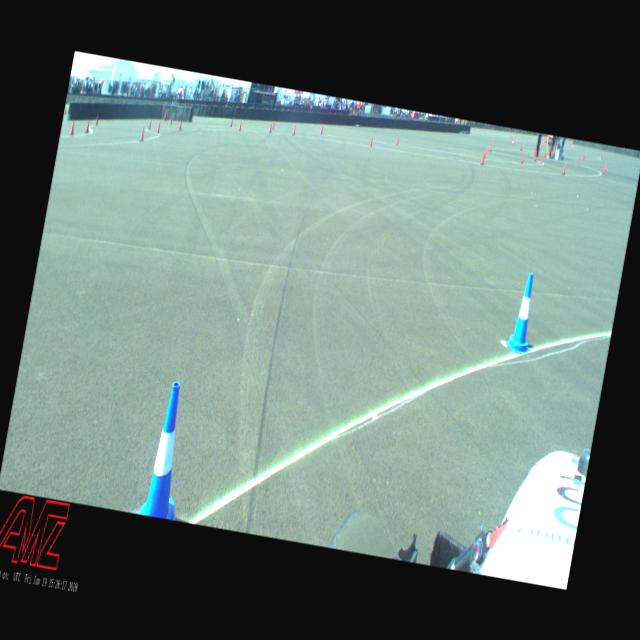blue_cone: (140, 378, 196, 520), (506, 270, 542, 354)
